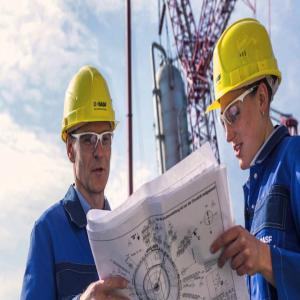yellow: (209, 15, 284, 174), (61, 63, 120, 202)
